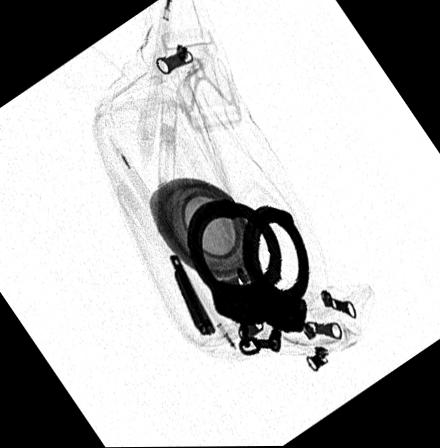HandCuffs: (185, 199, 308, 356)
